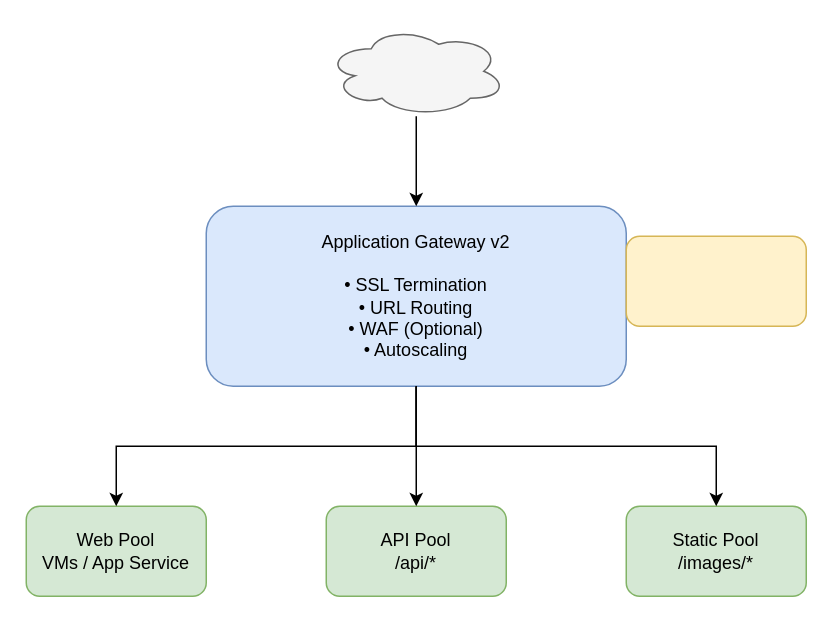
This 833x623 diagram has some shape labels left out. Here are the shapes that lost their labels. From the top down, the centre of each, then its label:
the point at 415,70: Internet
the point at 715,280: Listeners HTTPS :443 HTTP :80 (redirect)
